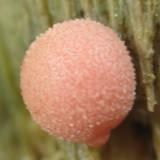Non-edible Mushroom: (18, 16, 137, 147)
